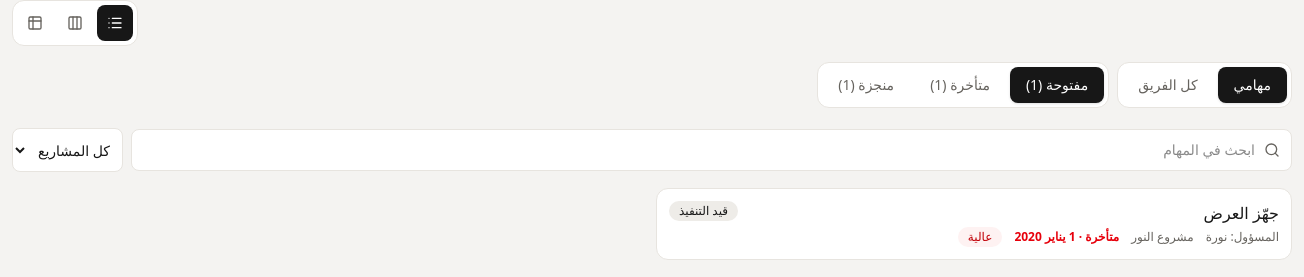
Test: TasksPage › shows my open tasks with the overdue mark and counts per view
Check: the text "جهّز العرض" is shown, box 1204,202 -> 1279,224
Check: the text "متأخرة · 1 يناير 2020" is shown, box 1014,229 -> 1119,245
Step 1. Click the tab "منجزة (1)" → (866, 85), box 822,67 -> 910,103
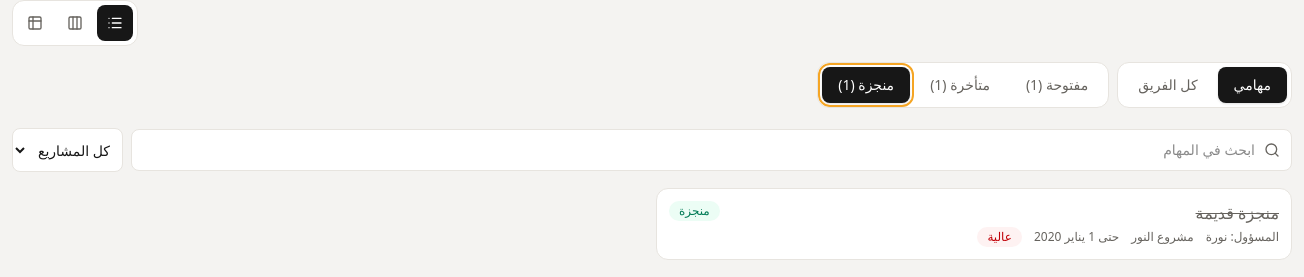
Check: the text "منجزة قديمة" is shown, box 1196,202 -> 1279,224
